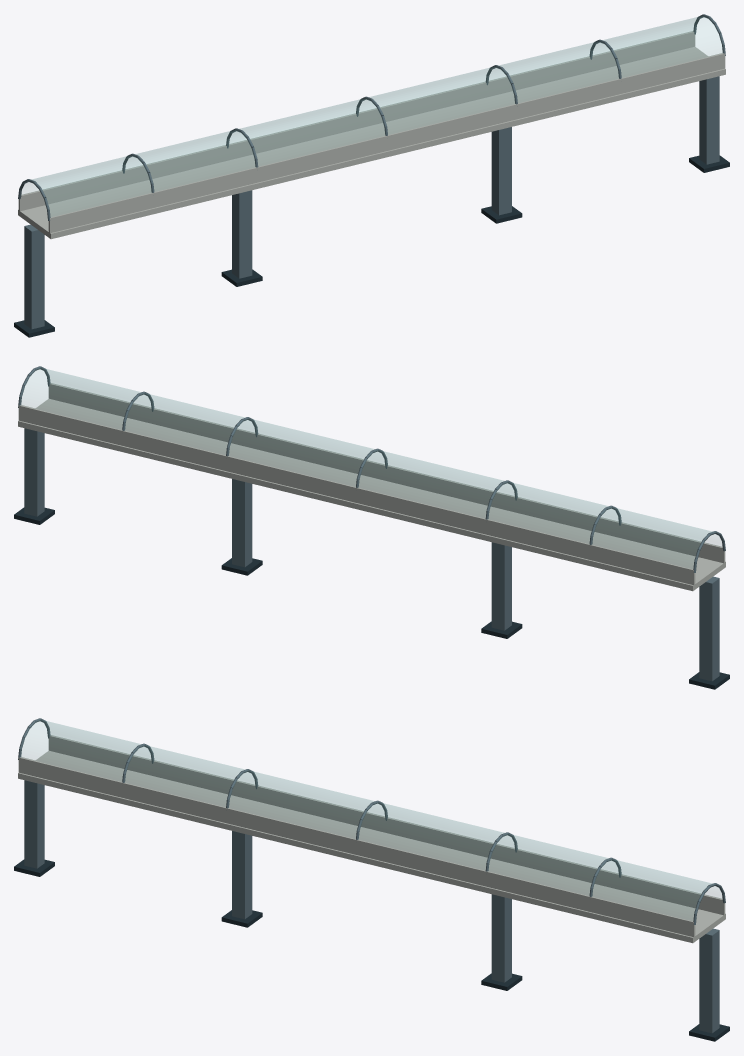
File: bridge_long_d0_lod0.glb
The picture shows the model from 3 angles, top to bottom: view 1: azimuth 30°, elevation 25°; view 2: azimuth 150°, elevation 25°; view 3: azimuth 330°, elevation 25°; orthographic projection.
Parts seen in each view (by area): view 1: BODY, GLASS; view 2: BODY, GLASS; view 3: BODY, GLASS.
Part boxes in pixels (x1,y1,x2,y2): BODY: (14,14,729,337); GLASS: (22,16,722,216); BODY: (14,366,729,689); GLASS: (21,368,721,568); BODY: (14,718,729,1041); GLASS: (21,720,721,920).
Bounding box in the file's own units: 54 × 10.9 × 4.4.
